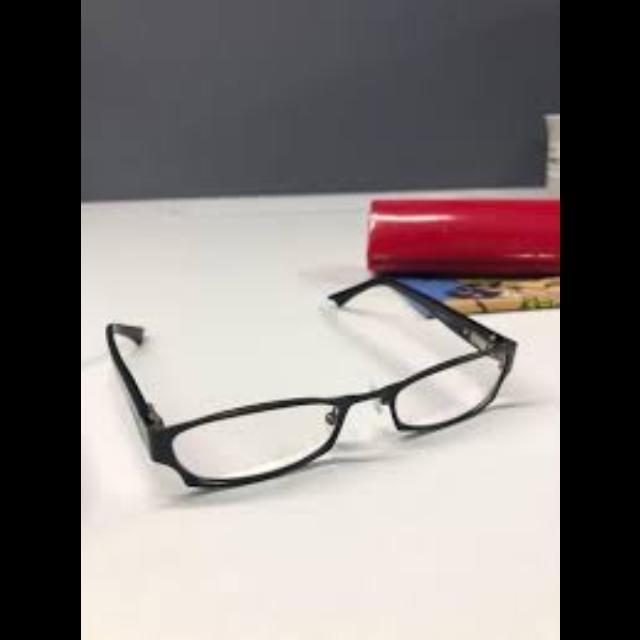glasses: (100, 270, 518, 496)
